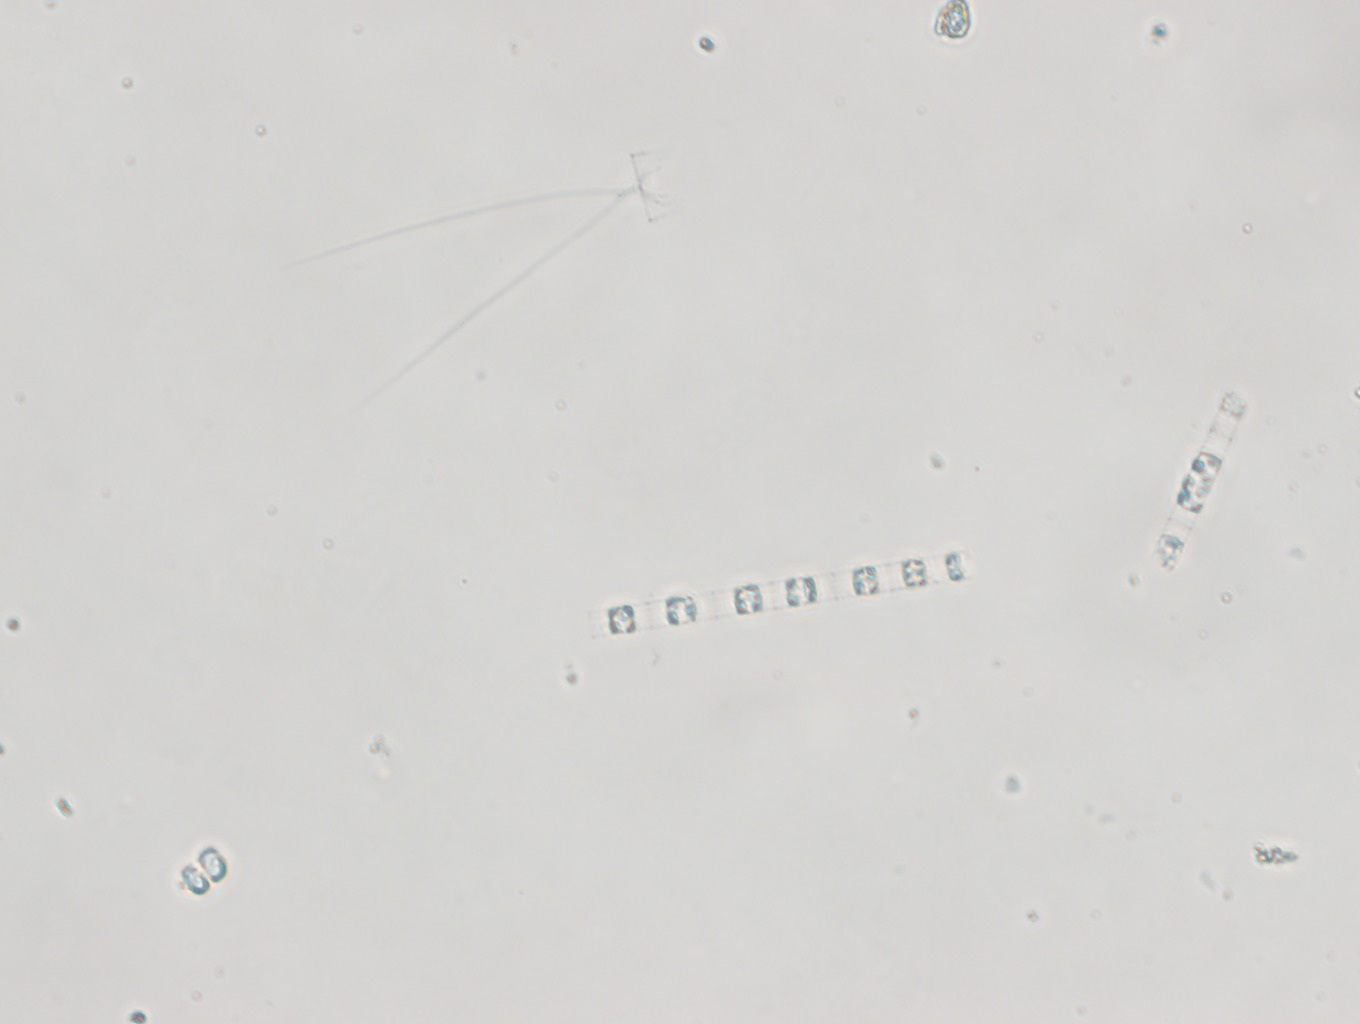chaetoceros: (287, 148, 708, 392)
skeletonema: (574, 542, 969, 639), (1128, 372, 1252, 573)
